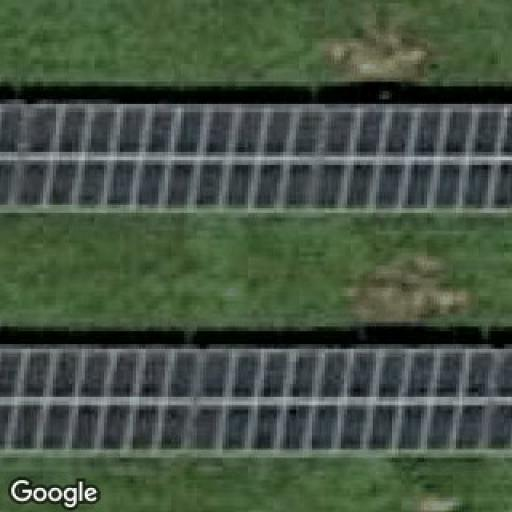solar-panel: (0, 108, 512, 214), (0, 352, 512, 451)
